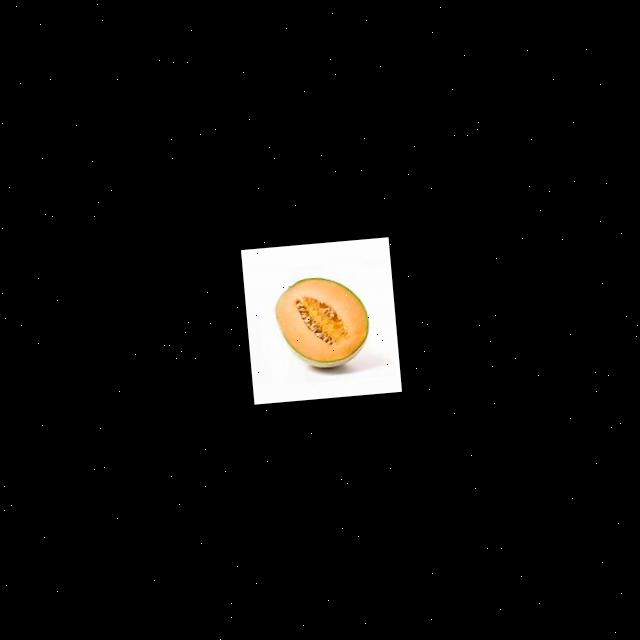Hami Melon: (270, 272, 372, 372)
